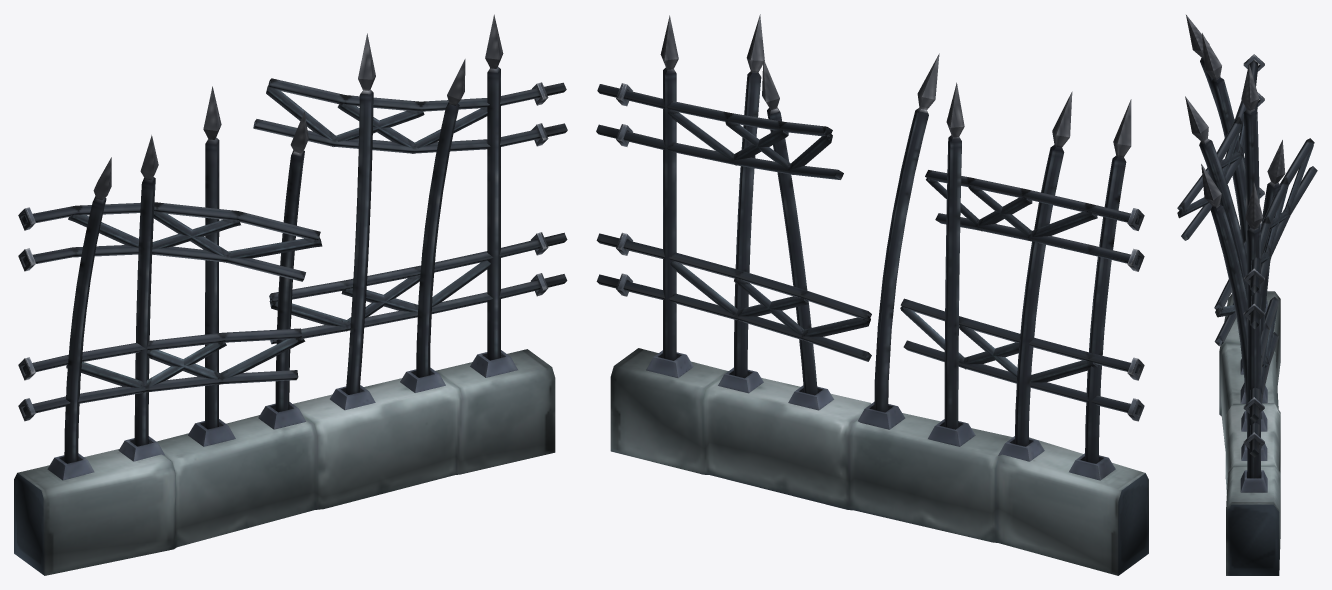
Rendered from env_cem_verja_04.FBX.
3 views of the same model, side by side, from view 1: azimuth 30°, elevation 25°; view 2: azimuth 150°, elevation 25°; view 3: azimuth 270°, elevation 25° (orthographic). The views are drawn at different scales.
Visible parts, largest first — view 1: env_cem_verja_04; view 2: env_cem_verja_04; view 3: env_cem_verja_04.
Boxes of the visible parts, box(x1,y1,x2,y2) form: env_cem_verja_04: box(14, 14, 567, 575); env_cem_verja_04: box(596, 14, 1148, 575); env_cem_verja_04: box(1177, 15, 1317, 575).
Bounding box in the file's own units: 633 × 488 × 166.
